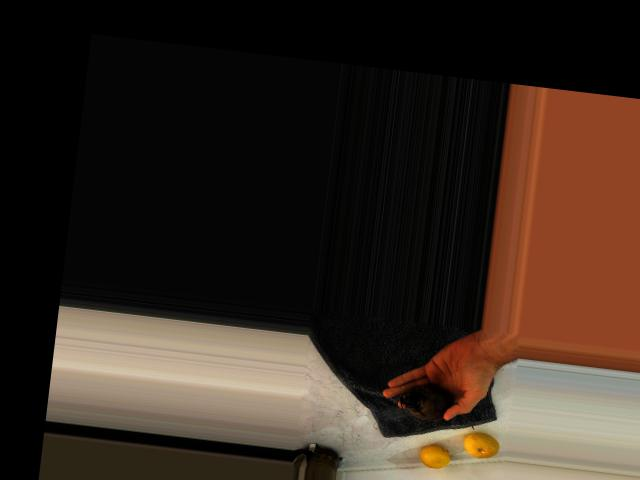beet: (398, 381, 478, 429)
